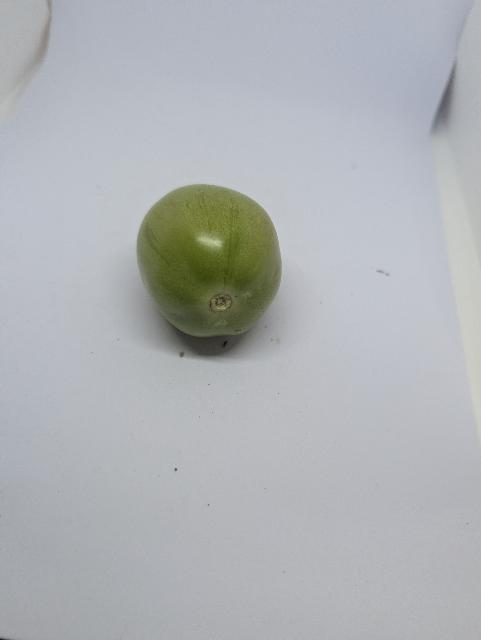green: (133, 182, 285, 340)
